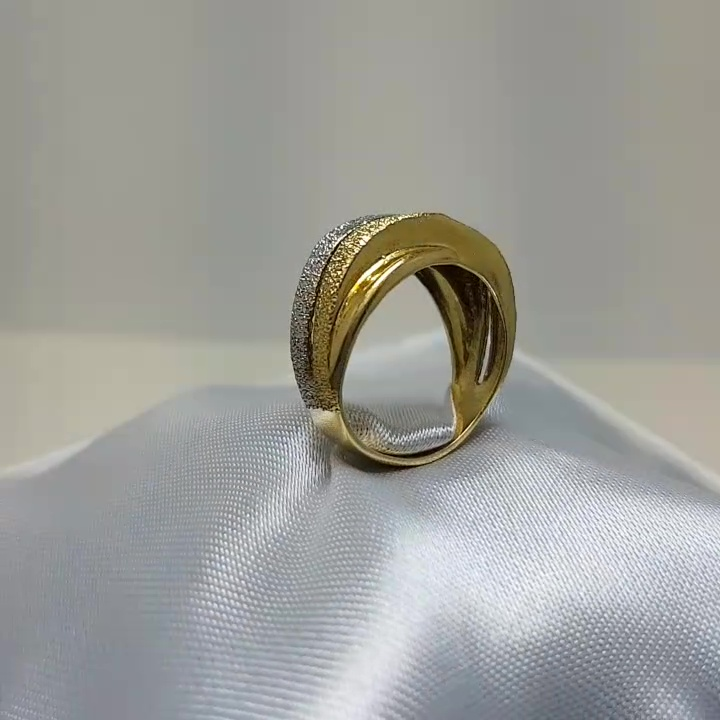Ring 5: (274, 197, 525, 479)
